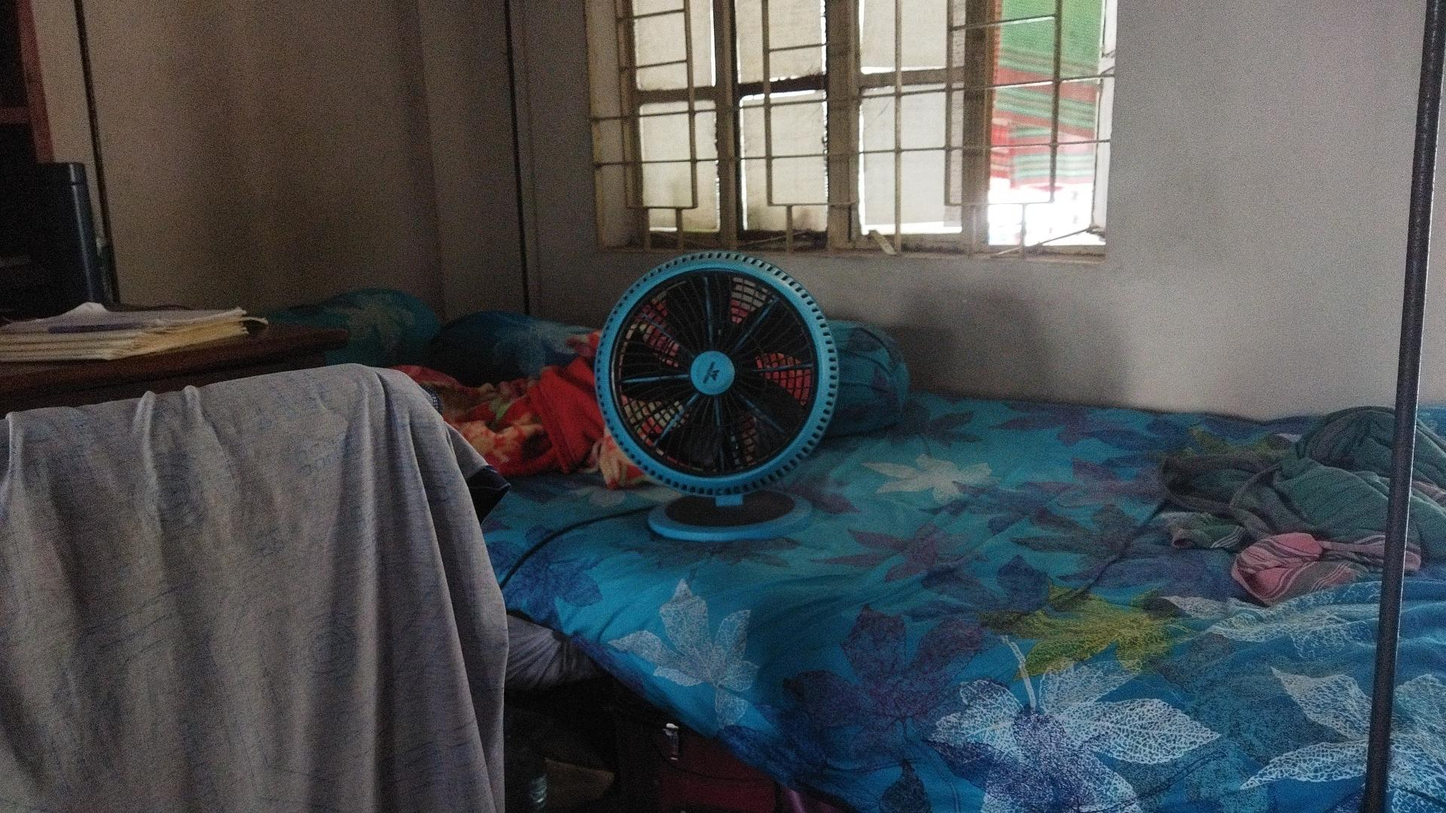Book: (5, 284, 250, 367)
Fan: (579, 228, 843, 543)
Window: (554, 0, 1141, 254)
